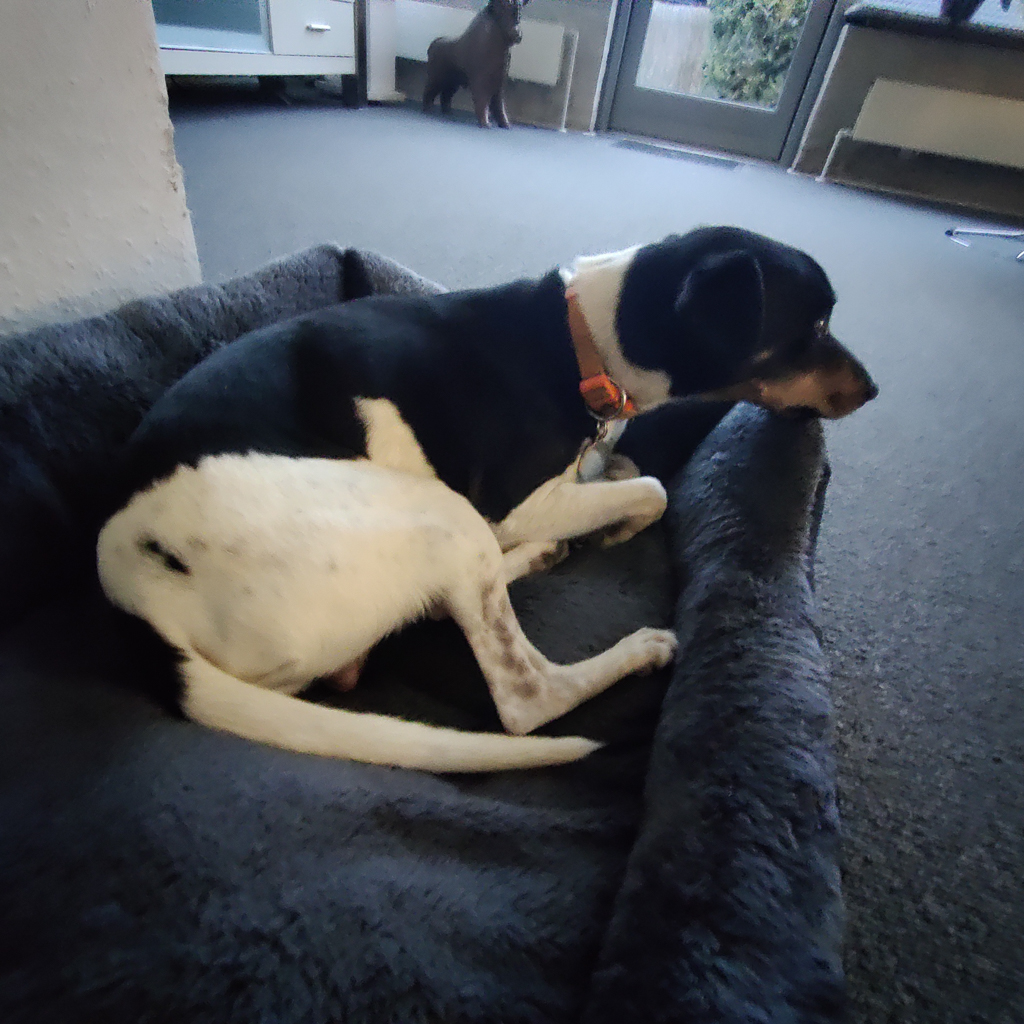Cattle: (407, 0, 538, 144)
Dog: (63, 182, 889, 803)
